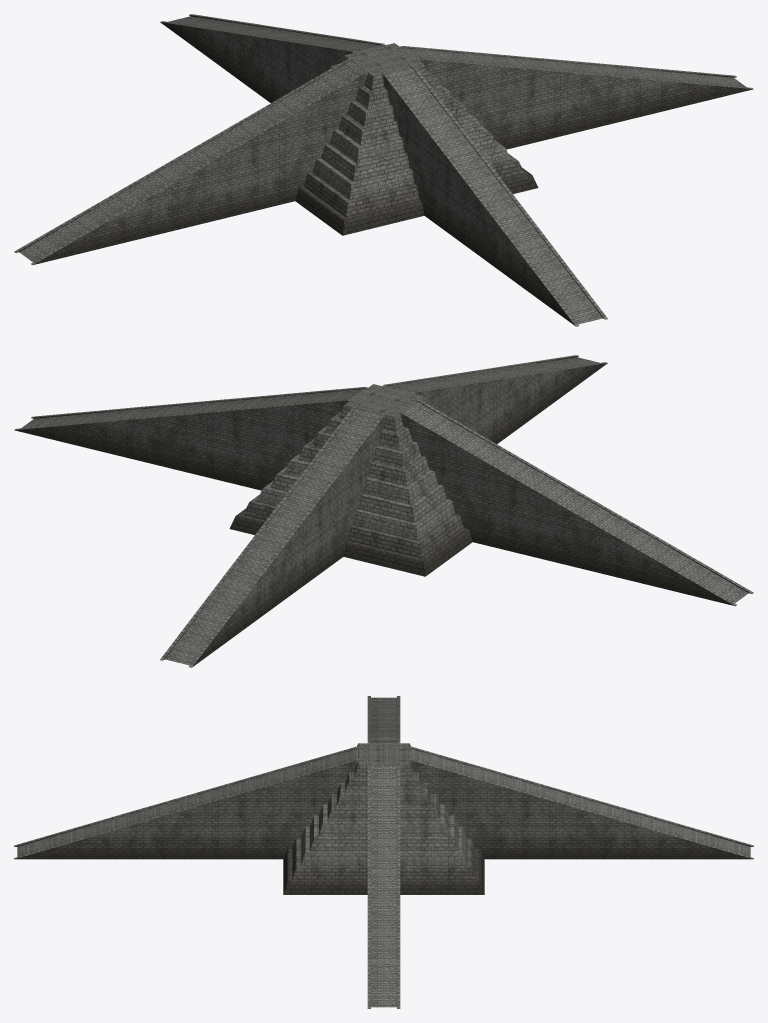
The model's file is MayanTower0907PM.fbx.
The picture shows the model from 3 angles, top to bottom: view 1: azimuth 30°, elevation 25°; view 2: azimuth 150°, elevation 25°; view 3: azimuth 270°, elevation 25°; orthographic projection. The views are drawn at different scales.
Parts seen in each view (by area): view 1: MayanTower; view 2: MayanTower; view 3: MayanTower.
Boxes of the visible parts, x1,y1,x2,y2 form: MayanTower: (14, 14, 753, 326); MayanTower: (14, 355, 753, 667); MayanTower: (14, 696, 753, 1008).
Size of the model in its own units: 184 by 27.09 by 184.
1 material, 1 textured.
